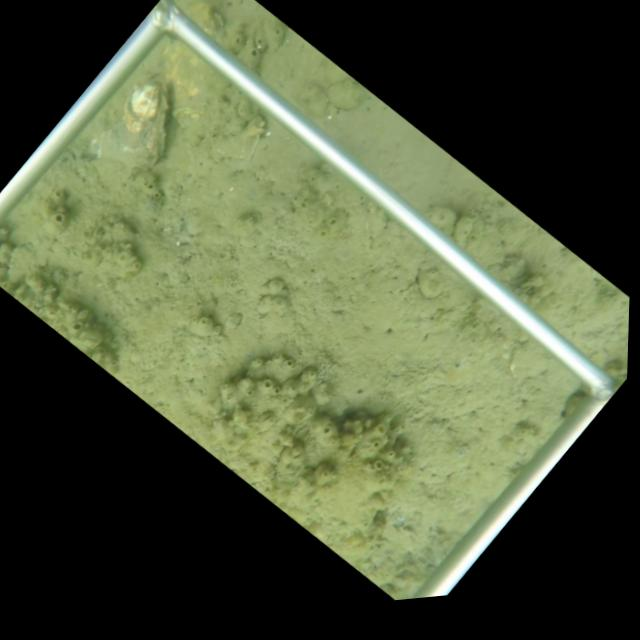Oyster-Closed: (85, 74, 177, 173)
